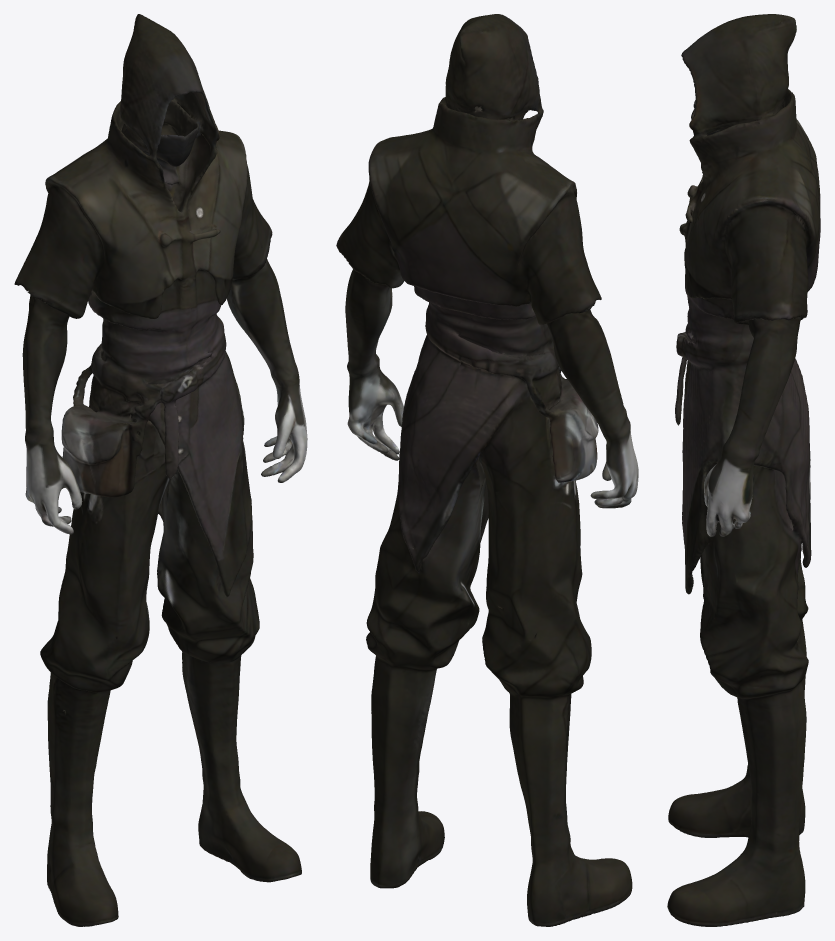
File: Dark_Hooded_Rogue_Out_0228132556_texture.fbx
The picture shows the model from 3 angles, left to right: view 1: azimuth 30°, elevation 25°; view 2: azimuth 150°, elevation 25°; view 3: azimuth 270°, elevation 25°; orthographic projection. The views are drawn at different scales.
Parts seen in each view (by area): view 1: Mesh1_Mesh1.028; view 2: Mesh1_Mesh1.028; view 3: Mesh1_Mesh1.028.
Part boxes in pixels (x1=…): Mesh1_Mesh1.028: x1=14, y1=14, x2=307, y2=926; Mesh1_Mesh1.028: x1=336, y1=14, x2=638, y2=926; Mesh1_Mesh1.028: x1=667, y1=14, x2=820, y2=926.
Bounding box in the file's own units: 66.85 × 200 × 32.41.
Materials: 1 (1 with a texture image).
